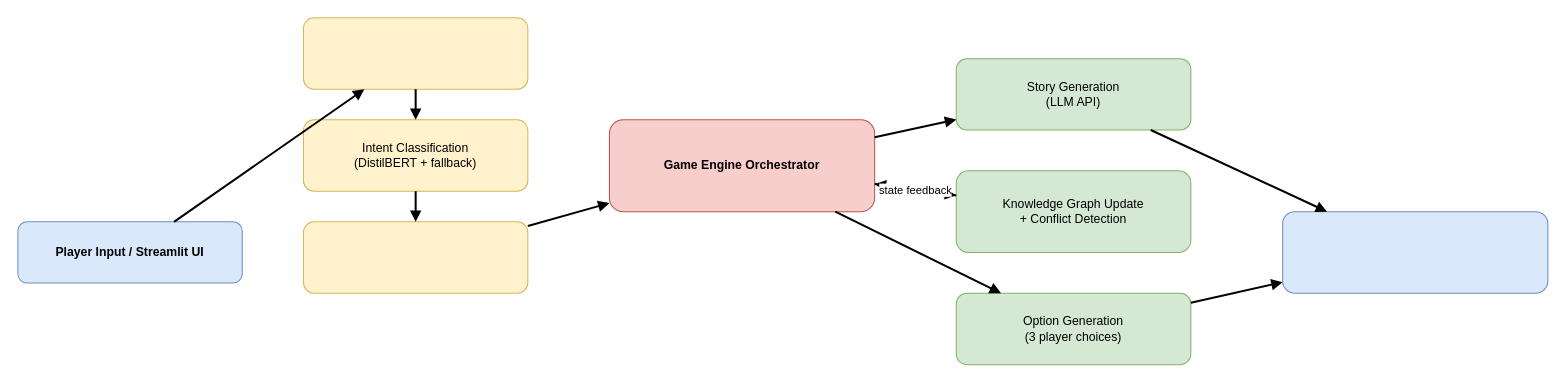
This 1566x383 diagram has some shape labels left out. Each missing label, with the box of its shape:
Coreference Resolution (fastcoref): (302, 17, 528, 89)
Entity Extraction (spaCy + heuristics): (302, 221, 528, 293)
Story + Options Returned to UI: (1282, 211, 1548, 293)
